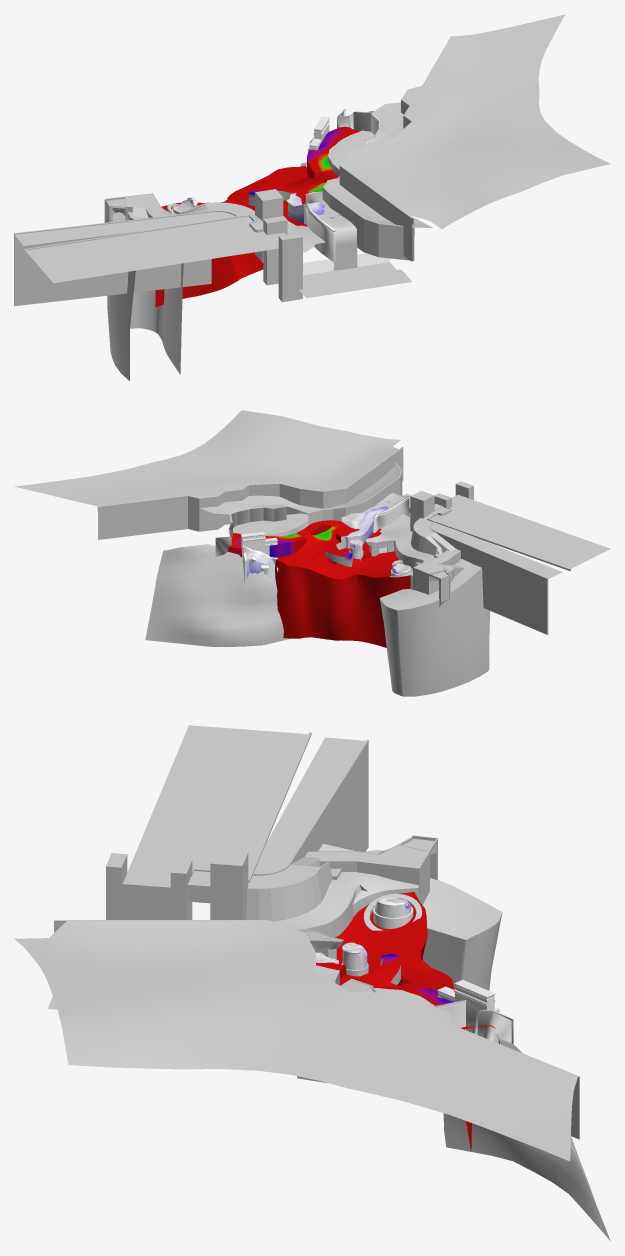
File: observatoryv2.fbx
3 views of the same model, one above another, from view 1: azimuth 30°, elevation 25°; view 2: azimuth 150°, elevation 25°; view 3: azimuth 270°, elevation 25° (orthographic). The views are drawn at different scales.
Visible parts, largest first — view 1: OB_OOB_Terrain_Top, OB_OOB_Pool_Plane_01, OB_Wall_Ruins_Boundary_3, OB_Optional_01_CliffFace, OB_Ground_Terrain_03, OB_OOB_Pool_Plane_02, OB_Wall_Ruins_Boundary_2, OB_Wall_Ruins_Boundary_1, OB_Ground_Terrain_02, OB_OOB_Terrain_Medium, Cube.004, OB_Ground_Terrain_05 (+10 smaller); view 2: OB_OOB_Terrain_Top, OB_Wall_CliffFace_01, OB_Optional_01_CliffFace, OB_Ground_Terrain_03, OB_Wall_Ruins_Boundary_1, OB_OOB_Pool_Plane_01, OB_Wall_Ruins_Boundary_3, OB_Ground_Terrain_02, OB_OOB_Terrain_Medium, OB_Ground_Ruins_04, OB_OOB_Pool_Plane_02, OB_Ground_Terrain_04 (+14 smaller); view 3: OB_OOB_Terrain_Top, OB_OOB_Pool_Plane_01, OB_Optional_01_CliffFace, OB_OOB_Pool_Plane_02, OB_Wall_CliffFace_01, OB_Ground_Terrain_03, OB_Wall_Ruins_Boundary_3, OB_Ground_Ruins_04, OB_Ground_Terrain_04, OB_Wall_Ruins_High_1, Cube.001, OB_Ground_Terrain_02 (+8 smaller).
Boxes of the visible parts, bbox=[...] form: OB_OOB_Terrain_Top: bbox=[341, 14, 610, 228]; OB_OOB_Pool_Plane_01: bbox=[25, 216, 411, 298]; OB_Wall_Ruins_Boundary_3: bbox=[14, 211, 211, 306]; OB_Optional_01_CliffFace: bbox=[107, 212, 183, 380]; OB_Ground_Terrain_03: bbox=[155, 165, 307, 306]; OB_OOB_Pool_Plane_02: bbox=[15, 212, 235, 245]; OB_Wall_Ruins_Boundary_2: bbox=[322, 176, 414, 260]; OB_Wall_Ruins_Boundary_1: bbox=[339, 36, 452, 261]; OB_Ground_Terrain_02: bbox=[248, 126, 360, 205]; OB_OOB_Terrain_Medium: bbox=[324, 102, 432, 227]; Cube.004: bbox=[278, 233, 302, 302]; OB_Ground_Terrain_05: bbox=[306, 191, 357, 270]; OB_OOB_Terrain_Top: bbox=[14, 410, 400, 506]; OB_Wall_CliffFace_01: bbox=[145, 544, 290, 646]; OB_Optional_01_CliffFace: bbox=[379, 559, 490, 696]; OB_Ground_Terrain_03: bbox=[275, 528, 410, 647]; OB_Wall_Ruins_Boundary_1: bbox=[97, 447, 403, 539]; OB_OOB_Pool_Plane_01: bbox=[403, 493, 610, 568]; OB_Wall_Ruins_Boundary_3: bbox=[435, 531, 548, 634]; OB_Ground_Terrain_02: bbox=[228, 520, 359, 566]; OB_OOB_Terrain_Medium: bbox=[200, 464, 400, 514]; OB_Ground_Ruins_04: bbox=[413, 549, 460, 606]; OB_OOB_Pool_Plane_02: bbox=[431, 522, 562, 578]; OB_Ground_Terrain_04: bbox=[365, 514, 435, 589]; OB_OOB_Terrain_Top: bbox=[14, 921, 577, 1161]; OB_OOB_Pool_Plane_01: bbox=[47, 725, 307, 1009]; OB_Optional_01_CliffFace: bbox=[297, 844, 502, 1082]; OB_OOB_Pool_Plane_02: bbox=[254, 737, 364, 873]; OB_Wall_CliffFace_01: bbox=[443, 1030, 610, 1240]; OB_Ground_Terrain_03: bbox=[335, 891, 471, 1150]; OB_Wall_Ruins_Boundary_3: bbox=[288, 739, 368, 864]; OB_Ground_Ruins_04: bbox=[305, 835, 437, 904]; OB_Ground_Terrain_04: bbox=[274, 872, 419, 949]; OB_Wall_Ruins_High_1: bbox=[246, 862, 332, 921]; Cube.001: bbox=[210, 850, 248, 919]; OB_Ground_Terrain_02: bbox=[316, 954, 499, 1043].
Size of the model in its own units: 1978 by 553 by 1077.
